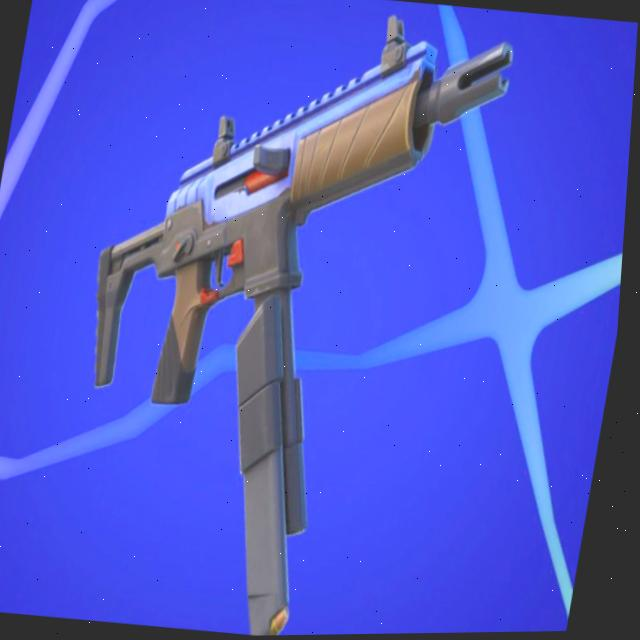firearm: (43, 0, 523, 639)
